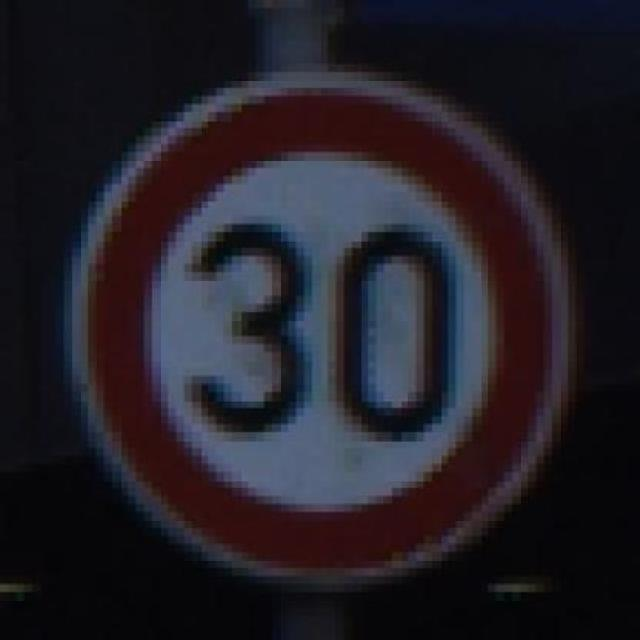Speed Limit 30 KMPh: (48, 48, 592, 600)
